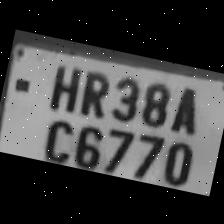0: (156, 132, 200, 188)
3: (104, 68, 146, 124)
6: (68, 116, 106, 170)
7: (125, 127, 166, 182), (97, 119, 136, 176)
8: (133, 74, 175, 130)
A: (164, 80, 209, 138)
C: (34, 110, 78, 162)
H: (40, 56, 85, 114)
R: (73, 63, 115, 119)
